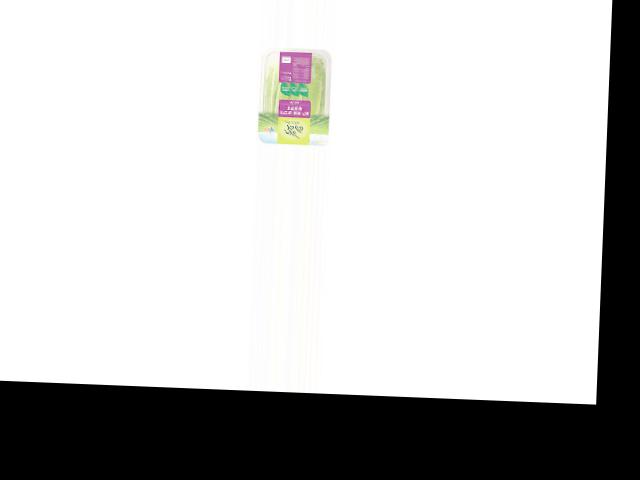lettuce: (256, 46, 332, 139)
